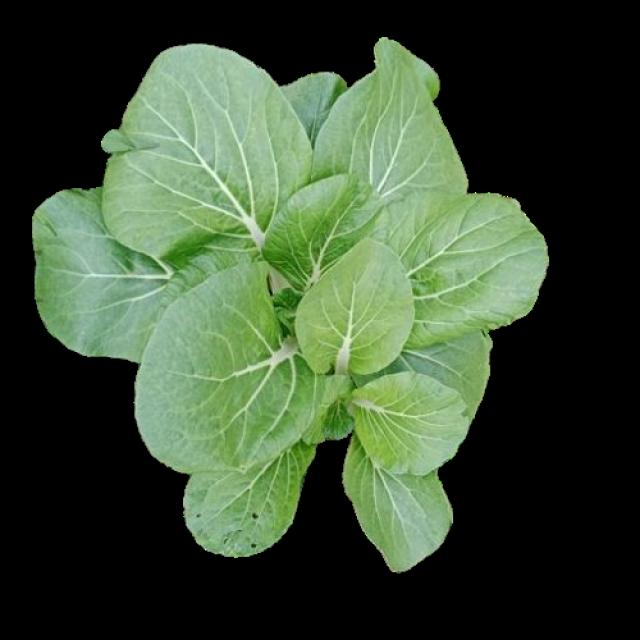mature: (32, 36, 554, 571)
unhealthy: (185, 420, 318, 555)
